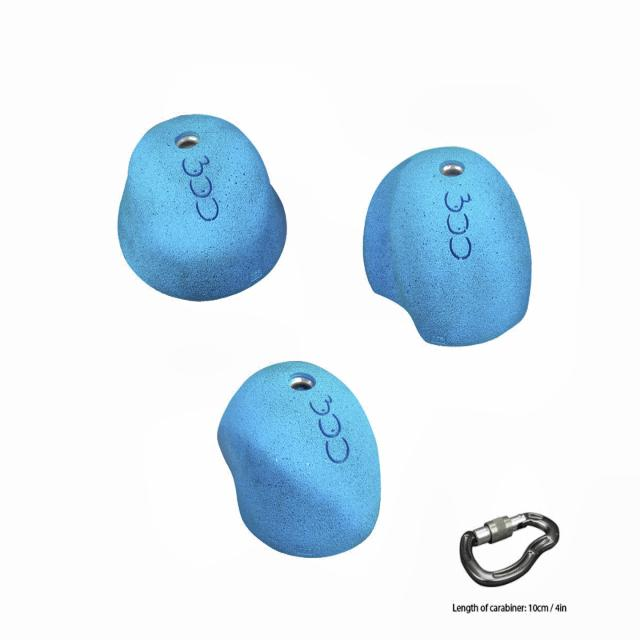Hold: (208, 354, 392, 560), (367, 150, 532, 350), (120, 112, 294, 301)
